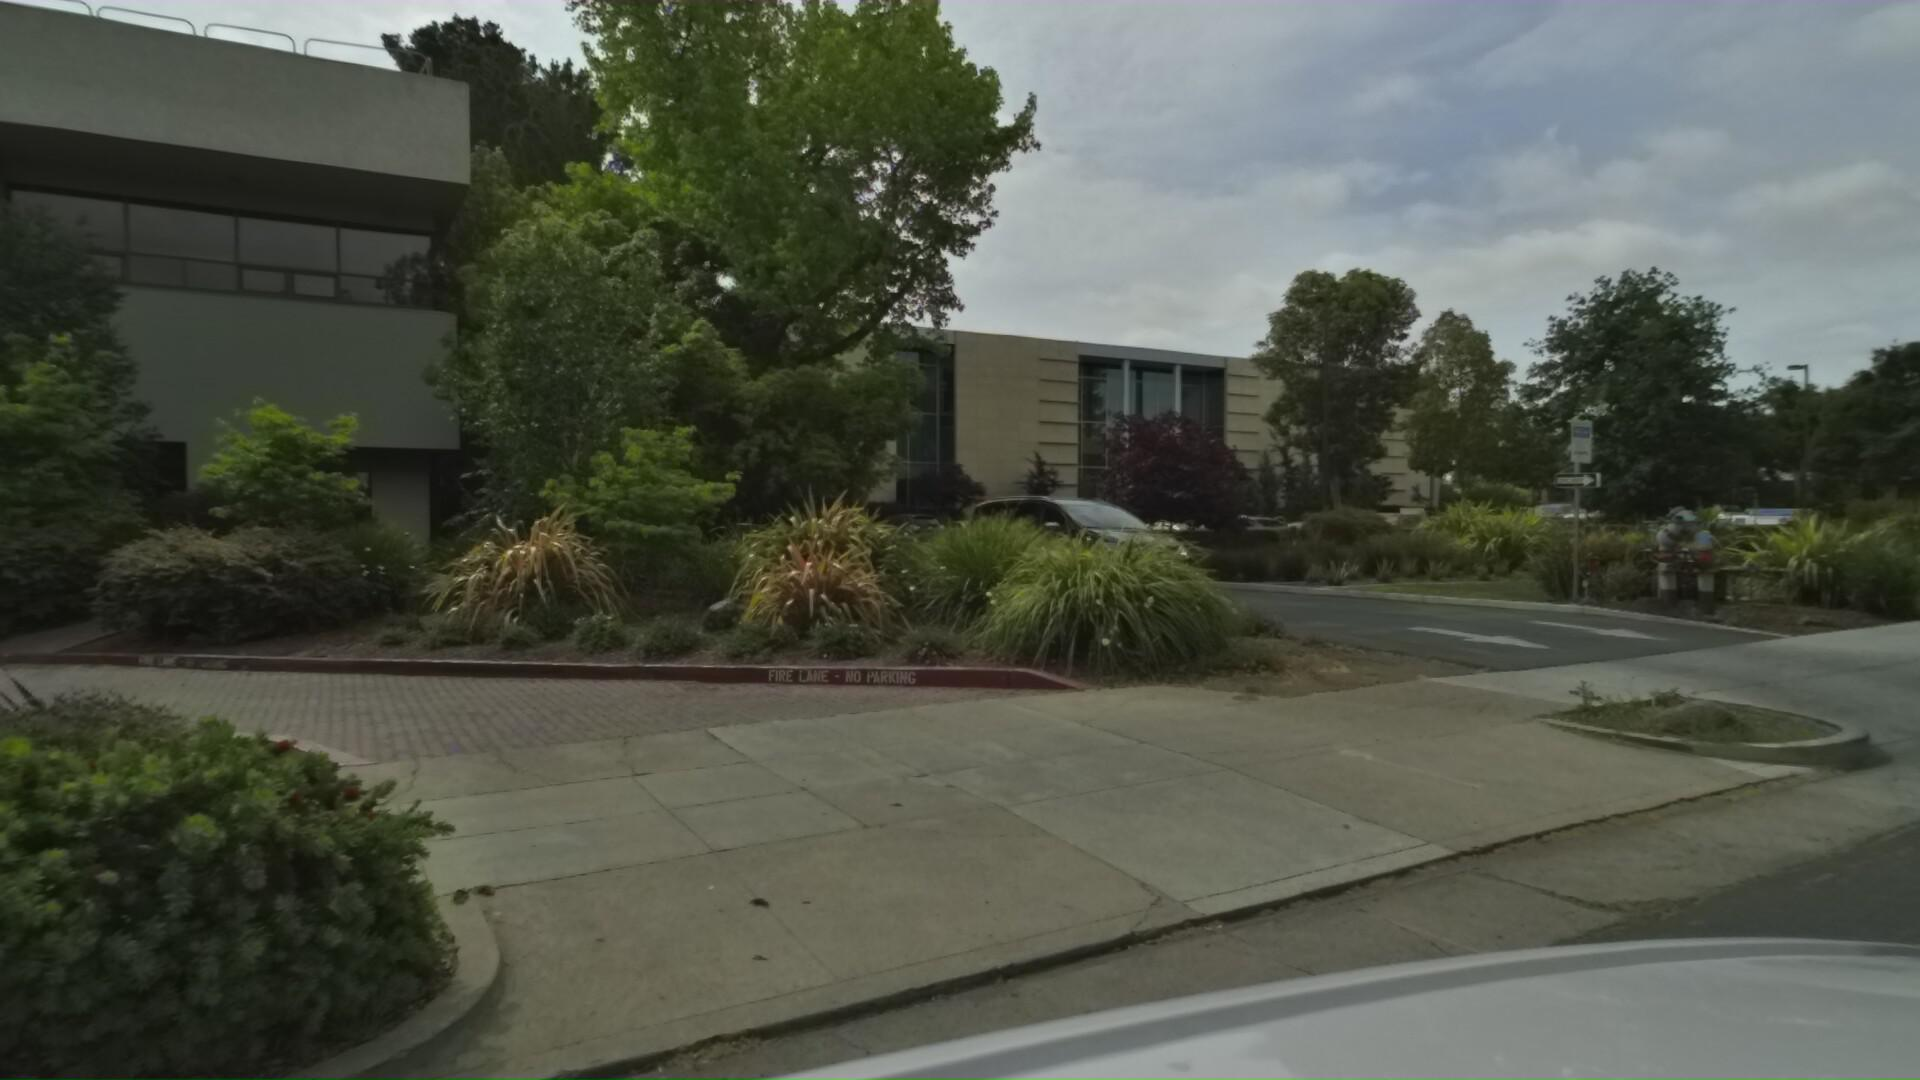car: (982, 488, 1228, 595)
